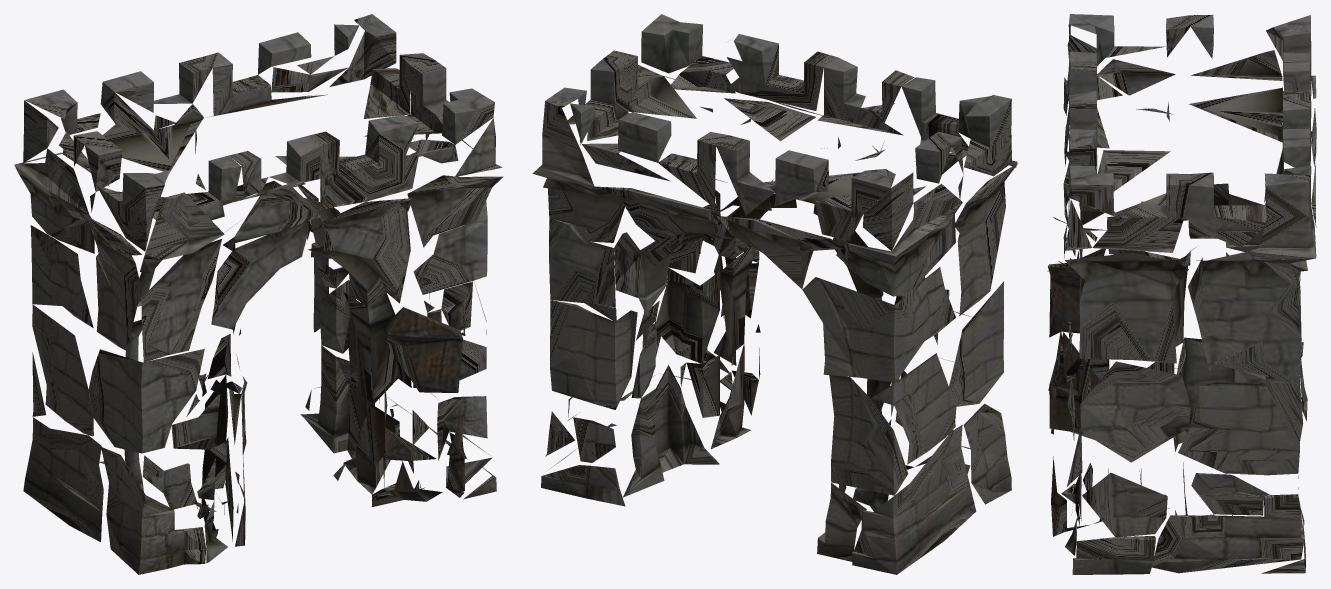
Rendered from bld_gatehouse_stone_a_LOD2.glb.
3 renders of one model, left to right at view 1: azimuth 30°, elevation 25°; view 2: azimuth 150°, elevation 25°; view 3: azimuth 270°, elevation 25°, orthographic.
Parts seen in each view (by area): view 1: geometry_0; view 2: geometry_0; view 3: geometry_0.
Part boxes in pixels (left/top/right/bottom): geometry_0: left=14, top=14, right=503, bottom=574; geometry_0: left=532, top=14, right=1018, bottom=574; geometry_0: left=1047, top=14, right=1316, bottom=574.
Bounding box in the file's own units: 7.77 × 8 × 5.
1 material, 1 textured.
